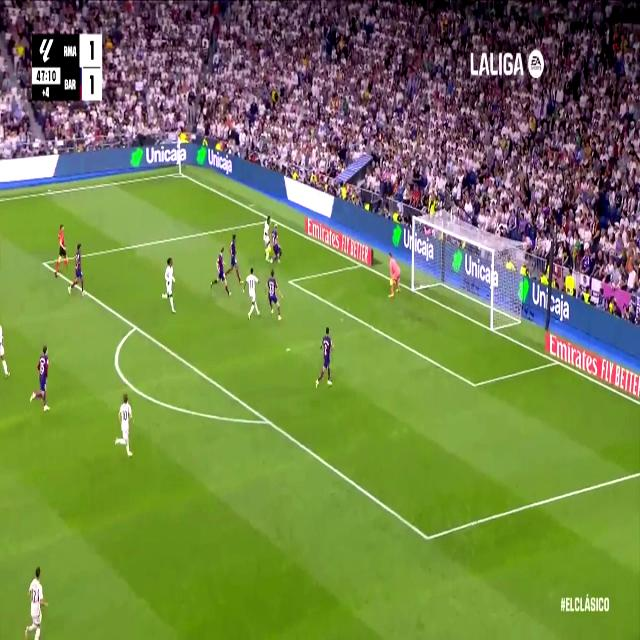bigarea_bottom_inner: (421, 520, 435, 554)
bigarea_top_inner: (286, 272, 294, 290)
bottom_arc_area_intersection: (260, 406, 274, 433)
corner: (175, 167, 185, 179)
smallarea_bottom_inner: (470, 374, 479, 396)
smallarea_top_inner: (286, 271, 294, 291)
top_arc_area_intersection: (131, 316, 141, 336)
